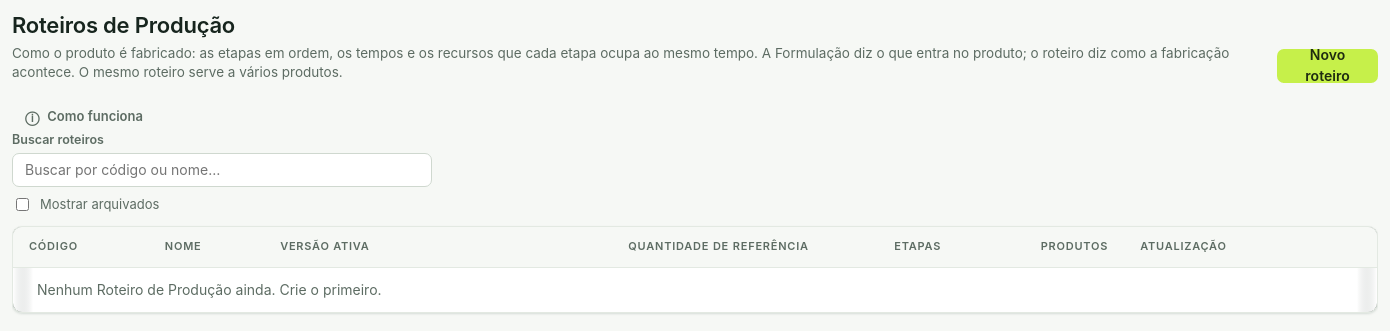
Test case: Roteiros de Produção — lista e arquivados › sem arquivados, a lista diz isso — e não sugere criar
The width and height of the screenshot is (1390, 331).
expect the text "Nenhum Roteiro de Produção ainda. Crie o primeiro." is shown: met, box top-left (37, 281), bottom-right (382, 298)
Click the checkbox labelled "Mostrar arquivados": {"x": 22, "y": 204} top-left (16, 198), bottom-right (29, 211)
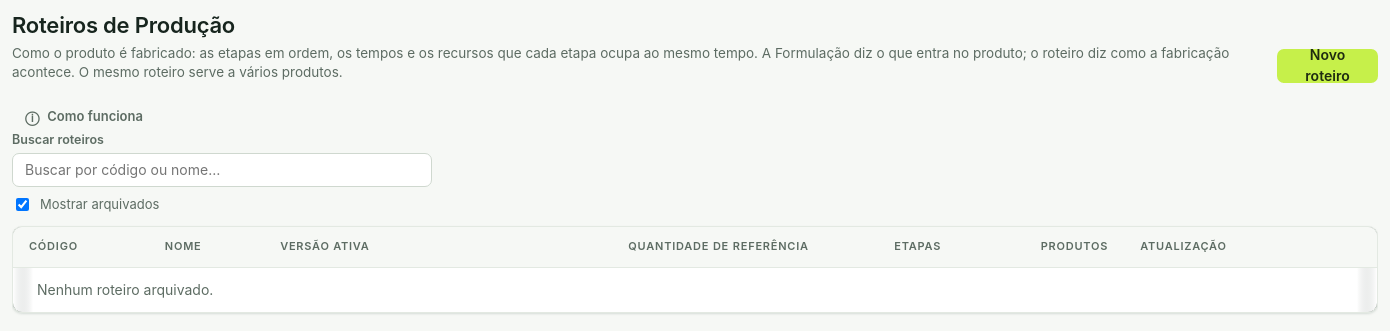
expect the text "Nenhum roteiro arquivado." is shown: met, box top-left (37, 281), bottom-right (213, 298)
